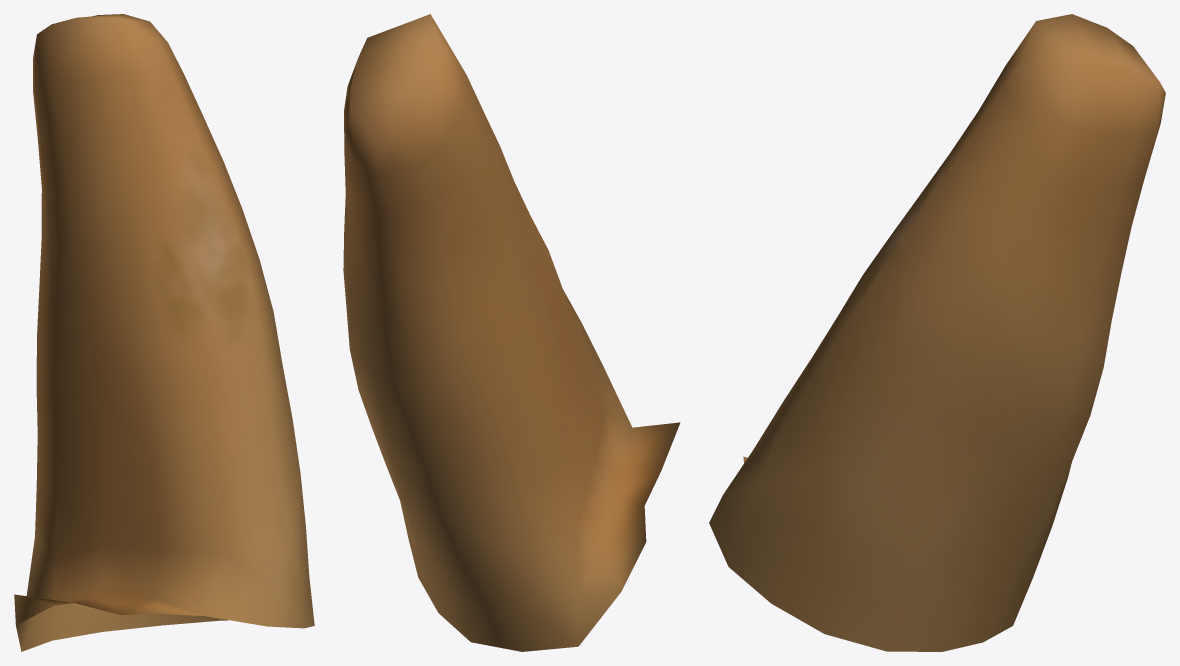
Rendered from tooth-12.glb.
3 renders of one model, left to right at view 1: azimuth 30°, elevation 25°; view 2: azimuth 150°, elevation 25°; view 3: azimuth 270°, elevation 25°, orthographic. The views are drawn at different scales.
Parts seen in each view (by area): view 1: teeth_1; view 2: teeth_1; view 3: teeth_1.
Part boxes in pixels (x1=…): teeth_1: x1=14, y1=14, x2=314, y2=651; teeth_1: x1=343, y1=14, x2=680, y2=651; teeth_1: x1=709, y1=14, x2=1165, y2=651.
Bounding box in the file's own units: 0.011 × 0.0249 × 0.0167.
1 material, 1 textured.
